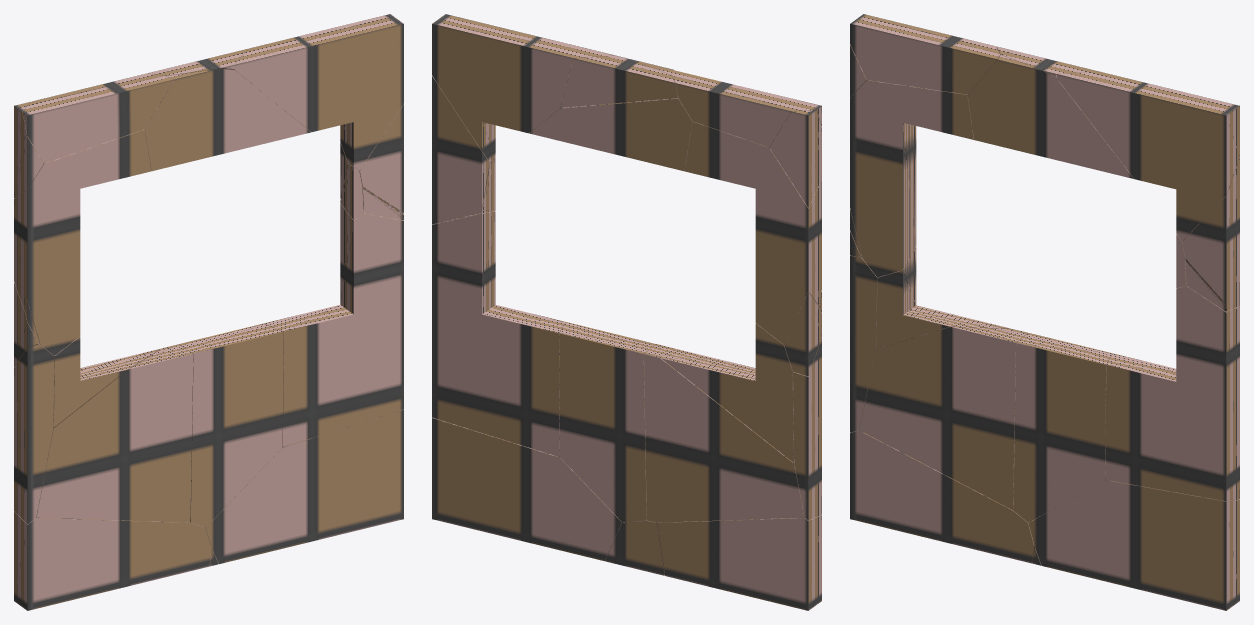
The model's file is WallWindow.fbx.
3 views of the same model, side by side, from view 1: azimuth 30°, elevation 25°; view 2: azimuth 150°, elevation 25°; view 3: azimuth 330°, elevation 25° (orthographic).
Visible parts, largest first — view 1: Cube.001_cell.017, Cube.001_cell.014, Cube.001_cell.007, Cube.001_cell.008, Cube.001_cell.013, Cube.001_cell.001, Cube.001_cell.004, Cube.001_cell.011, Cube.001_cell.005, Cube.001_cell.009, Cube.001_cell.012, Cube.001_cell.006 (+5 smaller); view 2: Cube.001_cell.014, Cube.001_cell.017, Cube.001_cell.007, Cube.001_cell.013, Cube.001_cell.008, Cube.001_cell.001, Cube.001_cell.004, Cube.001_cell.011, Cube.001_cell.012, Cube.001_cell.005, Cube.001_cell.006, Cube.001_cell.016 (+5 smaller); view 3: Cube.001_cell.014, Cube.001_cell.017, Cube.001_cell.007, Cube.001_cell.008, Cube.001_cell.013, Cube.001_cell.001, Cube.001_cell.004, Cube.001_cell.011, Cube.001_cell.005, Cube.001_cell.006, Cube.001_cell.012, Cube.001_cell.009 (+3 smaller).
Boxes of the visible parts, x1,y1,x2,y2 form: Cube.001_cell.017: (36, 344, 193, 522); Cube.001_cell.014: (264, 204, 403, 446); Cube.001_cell.007: (205, 410, 403, 563); Cube.001_cell.008: (233, 14, 403, 170); Cube.001_cell.013: (179, 323, 283, 527); Cube.001_cell.001: (14, 129, 151, 355); Cube.001_cell.004: (14, 511, 211, 610); Cube.001_cell.011: (144, 68, 310, 171); Cube.001_cell.005: (22, 73, 173, 163); Cube.001_cell.009: (14, 344, 54, 524); Cube.001_cell.012: (53, 336, 161, 428); Cube.001_cell.006: (340, 104, 403, 214); Cube.001_cell.014: (432, 208, 565, 456); Cube.001_cell.017: (644, 344, 804, 522); Cube.001_cell.007: (432, 417, 637, 561); Cube.001_cell.013: (559, 322, 655, 522); Cube.001_cell.008: (432, 14, 615, 161); Cube.001_cell.001: (684, 121, 821, 344); Cube.001_cell.004: (642, 515, 821, 610); Cube.001_cell.011: (529, 59, 692, 171); Cube.001_cell.012: (661, 323, 794, 462); Cube.001_cell.005: (671, 70, 821, 147); Cube.001_cell.006: (432, 76, 489, 224); Cube.001_cell.016: (560, 55, 677, 107); Cube.001_cell.014: (1105, 285, 1239, 501); Cube.001_cell.017: (859, 327, 1027, 509); Cube.001_cell.007: (1028, 480, 1239, 610); Cube.001_cell.008: (1056, 71, 1239, 240); Cube.001_cell.013: (1013, 333, 1112, 522); Cube.001_cell.001: (850, 80, 974, 277); Cube.001_cell.004: (850, 430, 1034, 563); Cube.001_cell.011: (967, 55, 1133, 178); Cube.001_cell.005: (850, 18, 999, 94); Cube.001_cell.006: (1182, 158, 1239, 310); Cube.001_cell.012: (876, 248, 1010, 348); Cube.001_cell.009: (850, 256, 877, 432).
Bounding box in the file's own units: 200 × 252 × 12.34.
